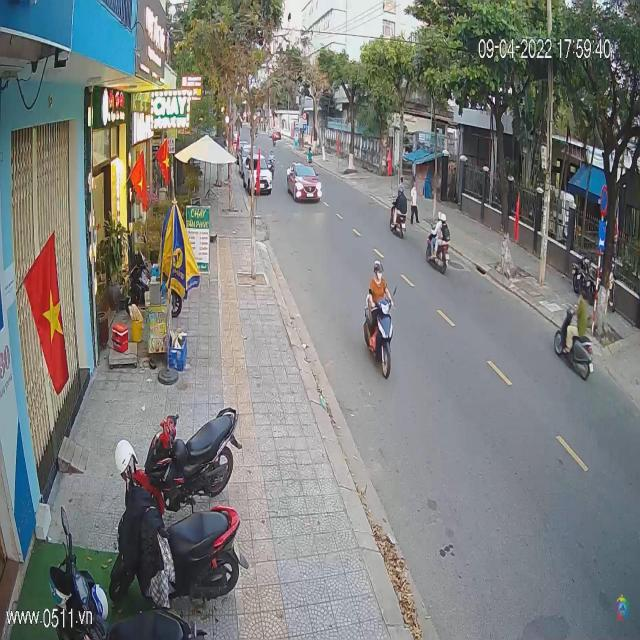car: (286, 164, 323, 202)
motorcycle: (362, 282, 396, 383), (555, 301, 596, 383), (426, 214, 456, 275), (389, 196, 406, 238)
